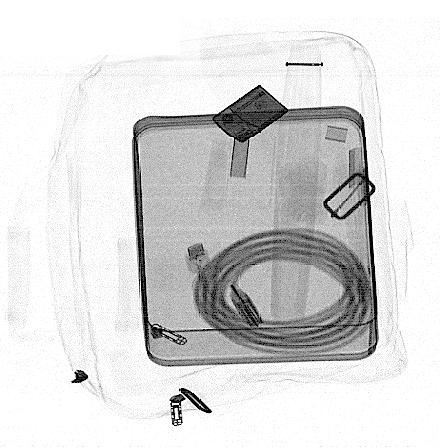Lighter: (212, 84, 291, 144)
